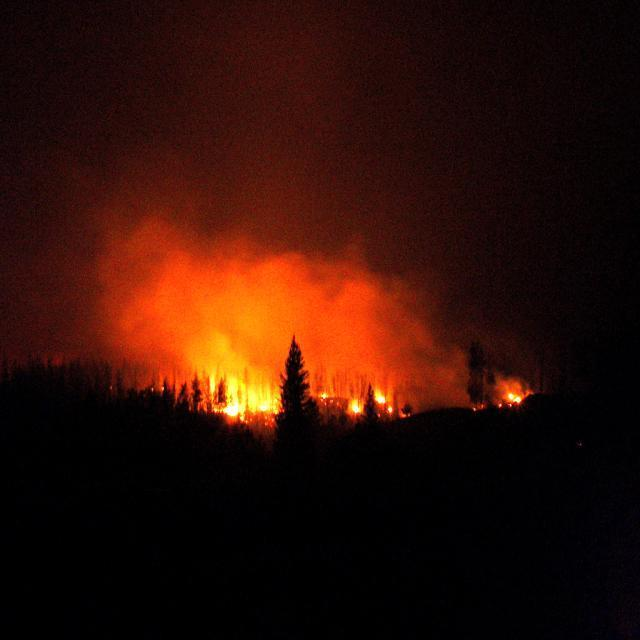Fire: (193, 362, 281, 423), (344, 382, 396, 418), (500, 385, 529, 412)
Smoke: (0, 154, 457, 376)
